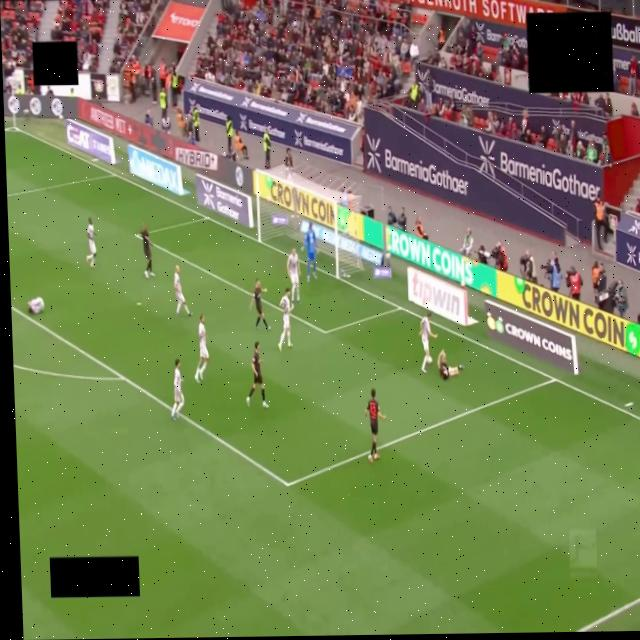player: (365, 389, 385, 462), (247, 341, 268, 408), (249, 279, 270, 330), (420, 312, 437, 372), (195, 315, 209, 382), (174, 266, 192, 316), (278, 288, 292, 351), (140, 223, 155, 278), (302, 224, 316, 282), (171, 359, 184, 420), (287, 248, 300, 305), (438, 351, 463, 380), (87, 218, 96, 268), (28, 298, 44, 314)
